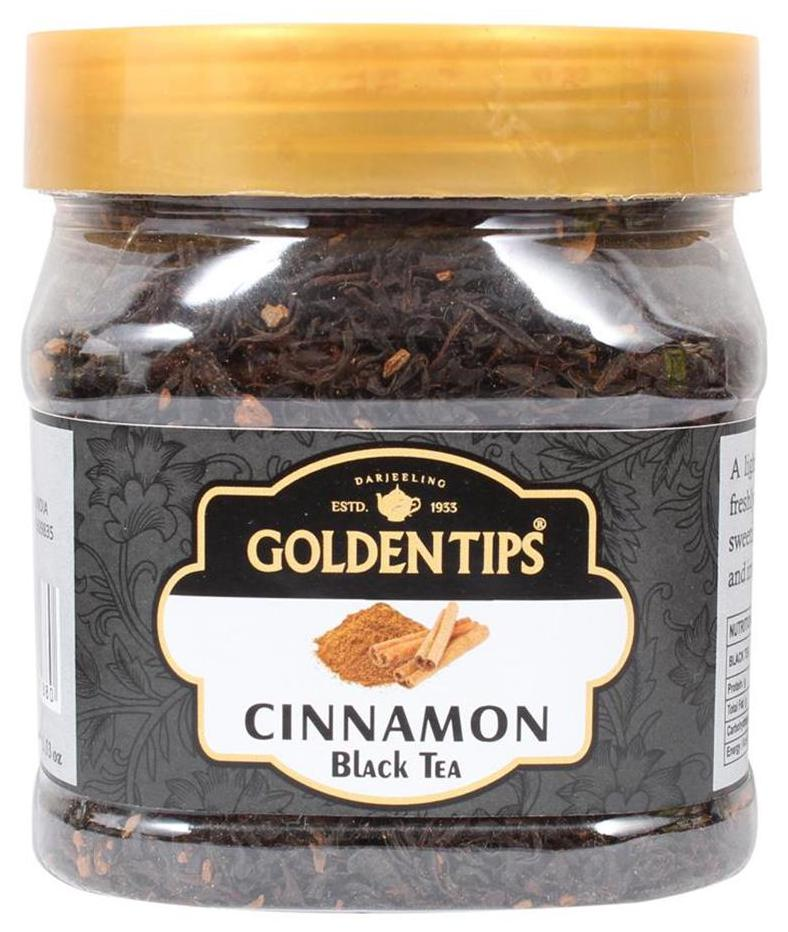JAR: (11, 16, 771, 918)
